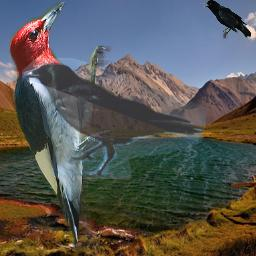Crow: (22, 58, 206, 179), (202, 0, 251, 39)
Woodpecker: (8, 2, 114, 253)
